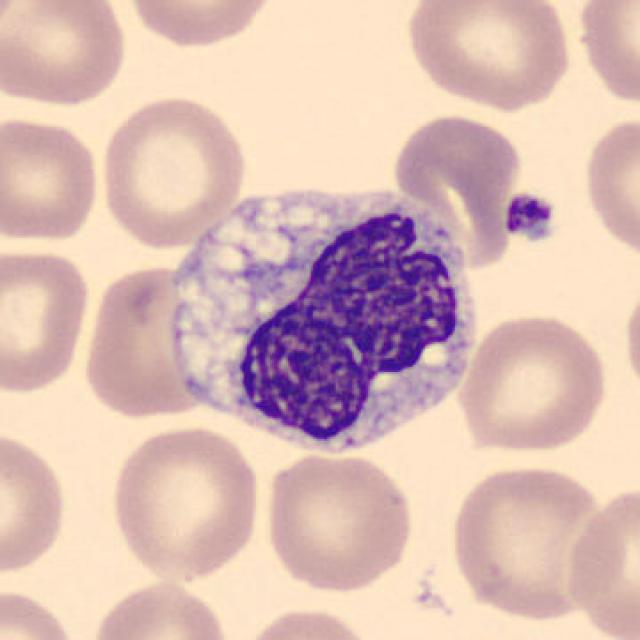Monocyte: (144, 175, 487, 467)
Platelets: (501, 189, 560, 245)
RBC: (444, 460, 620, 624), (107, 422, 263, 584), (96, 90, 251, 250), (454, 308, 612, 456), (260, 450, 418, 594), (78, 259, 214, 423), (388, 108, 524, 270), (400, 0, 576, 113), (0, 241, 92, 398), (0, 0, 131, 109), (0, 113, 103, 247), (562, 481, 640, 640), (0, 427, 71, 578), (89, 576, 233, 640), (579, 111, 640, 262), (121, 0, 283, 51), (572, 0, 639, 109), (234, 603, 378, 640), (0, 585, 82, 640), (620, 275, 640, 406)
